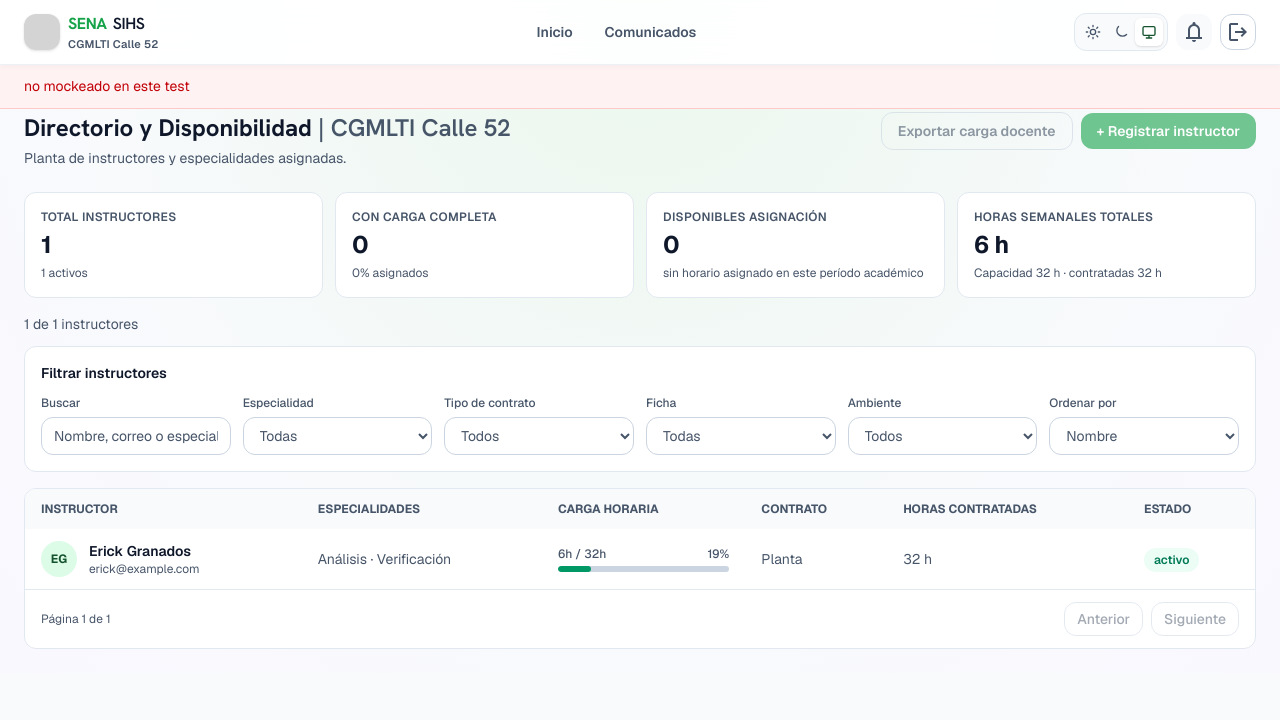
Test case: Instructores › clic en una fila abre el drawer con carga semanal, fichas, temas y ambientes
Step 1. Click the text "Erick Granados" → (144, 551), box [89,541,200,561]
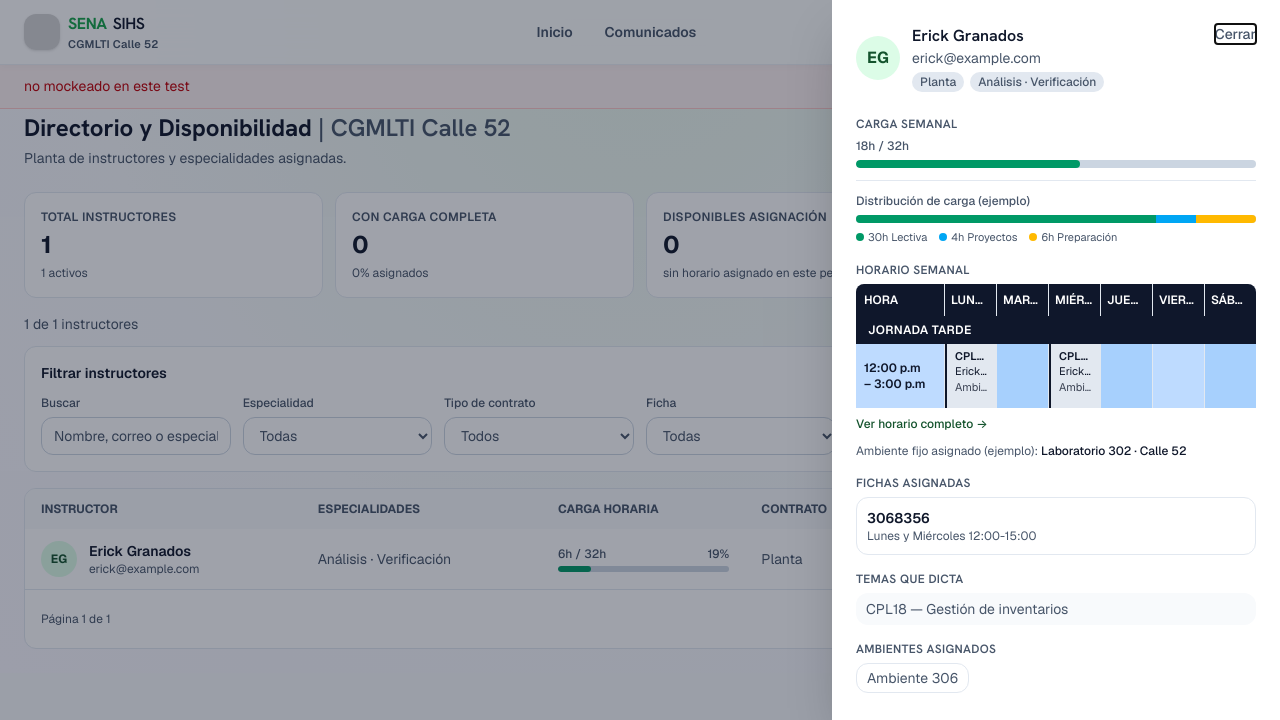
expect the text "Análisis · Verificación" is shown: met, box [970,72,1104,92]
expect the text "Planta" is shown: met, box [912,72,964,92]
expect the text "18h / 32h" is shown: met, box [856,138,909,154]
